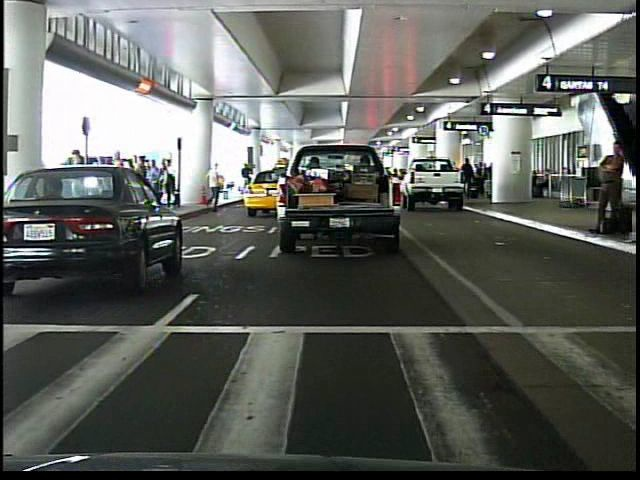person: (591, 136, 628, 246), (105, 151, 132, 223), (203, 158, 226, 213), (239, 162, 257, 196)
